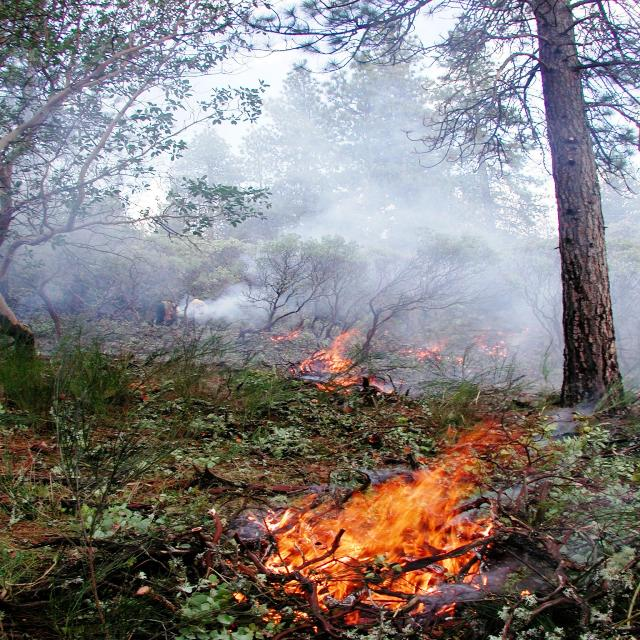api: (281, 474, 469, 616), (440, 424, 491, 468), (316, 330, 354, 379)
asap: (373, 186, 567, 369), (285, 178, 369, 260), (179, 277, 289, 334)
